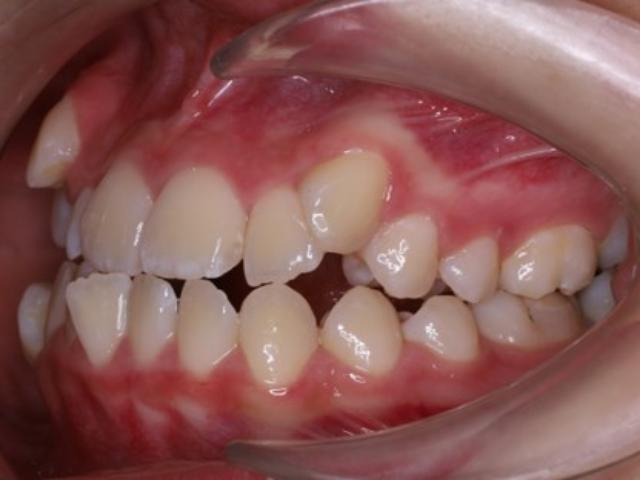canine class I: (241, 130, 414, 402)
molar class III 1/4: (475, 205, 597, 357)
